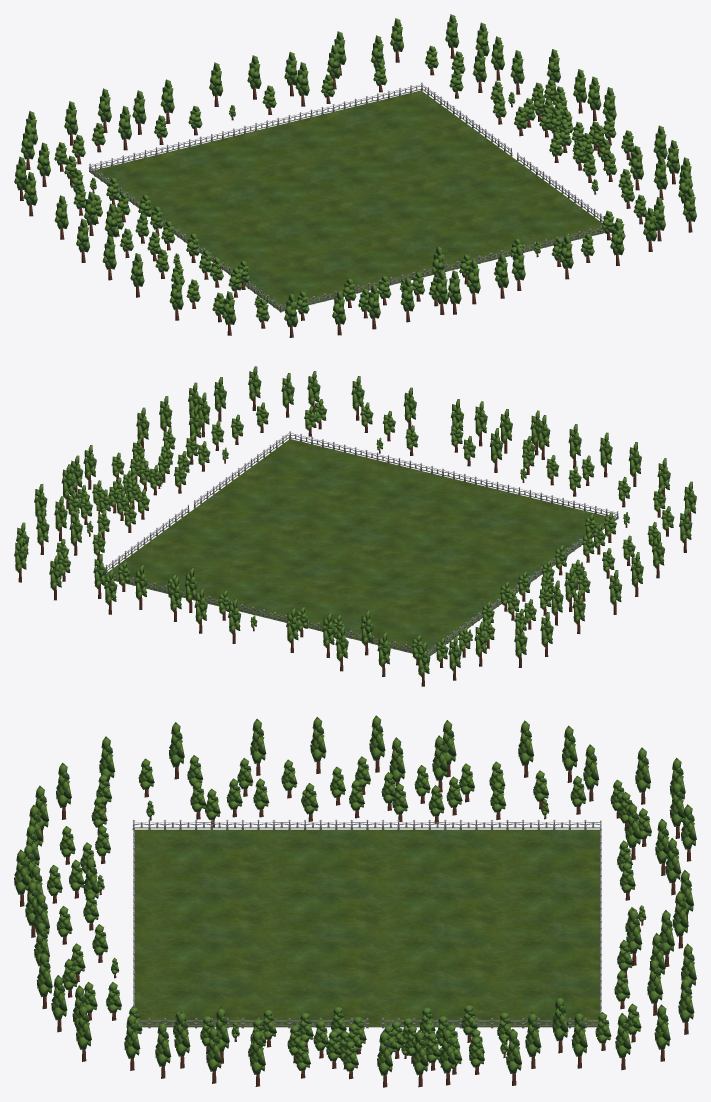
The model's file is FloorBaseGrass_01.glb.
3 renders of one model, top to bottom at view 1: azimuth 30°, elevation 25°; view 2: azimuth 150°, elevation 25°; view 3: azimuth 270°, elevation 25°, orthographic. The views are drawn at different scales.
Visible parts, largest first — view 1: Grass.002, Grass.003, Grass, Grass.001; view 2: Grass, Grass.001, Grass.002, Grass.003; view 3: Grass.001, Grass.003, Grass, Grass.002, TreeFir_02.083, TreeFir_02.024, TreeFir_02.084, TreeFir_02.044, TreeFir_02.006, TreeFir_02.021, TreeFir_02.045, TreeFir_02.128 (+19 smaller).
Boxes of the visible parts, box(x1,y1,x2,y2) form: Grass.002: box(256, 90, 516, 200); Grass.003: box(89, 131, 350, 240); Grass: box(351, 160, 604, 271); Grass.001: box(185, 201, 445, 311); Grass: box(196, 439, 452, 547); Grass.001: box(360, 479, 616, 586); Grass.002: box(105, 508, 358, 616); Grass.003: box(265, 548, 518, 655); Grass.001: box(134, 829, 367, 928); Grass.003: box(367, 829, 600, 928); Grass: box(134, 928, 367, 1027); Grass.002: box(367, 928, 600, 1027); TreeFir_02.083: box(369, 715, 385, 772); TreeFir_02.024: box(678, 977, 694, 1034); TreeFir_02.084: box(310, 717, 326, 773); TreeFir_02.044: box(174, 1011, 190, 1068); TreeFir_02.006: box(583, 744, 599, 801); TreeFir_02.021: box(647, 958, 663, 1015); TreeFir_02.045: box(124, 1013, 140, 1070); TreeFir_02.128: box(51, 975, 67, 1032).
Size of the model in its own units: 52.21 by 4.17 by 46.75.
Materials: 3 (3 with a texture image).
